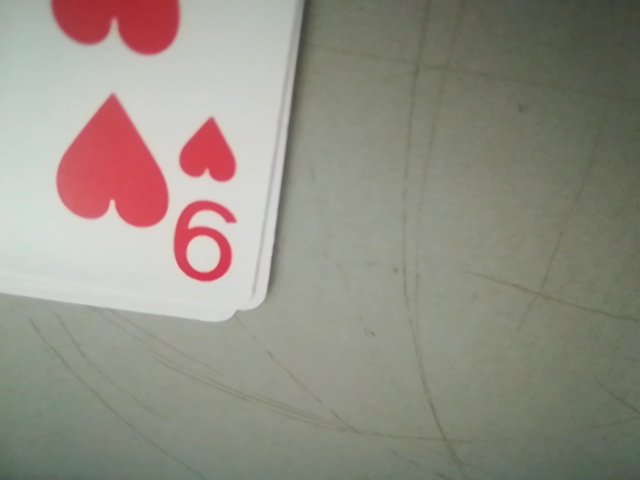hx 9: (170, 112, 260, 294)
